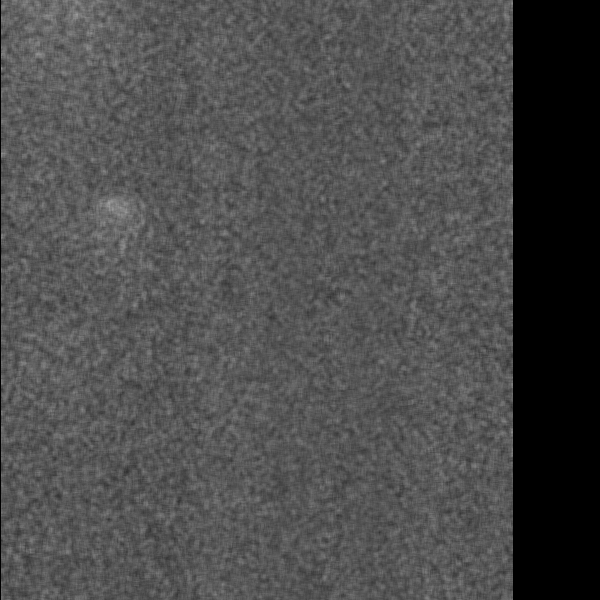spark: (89, 193, 133, 234)
